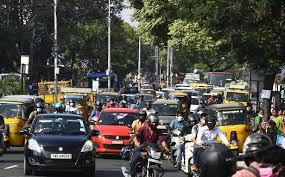helmet: (243, 133, 273, 167), (147, 113, 160, 129), (187, 115, 198, 128), (137, 110, 147, 122), (35, 101, 44, 113), (95, 100, 104, 112), (207, 118, 216, 130), (55, 101, 63, 112), (119, 100, 127, 109)
